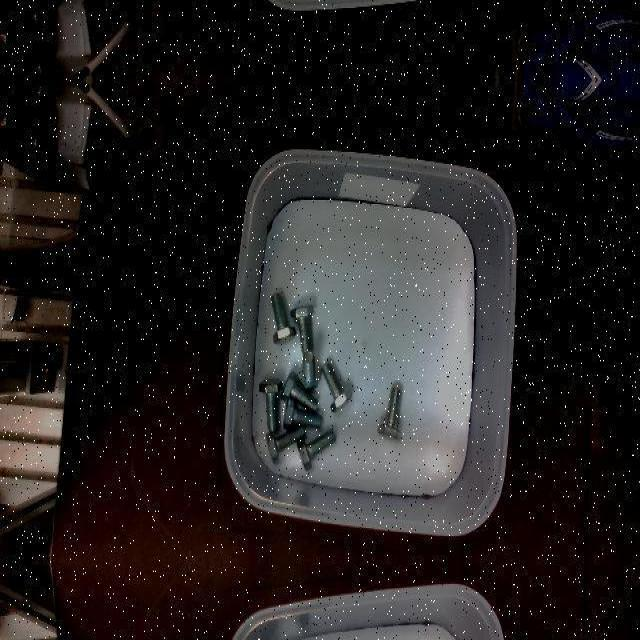screw: (297, 428, 336, 470), (280, 369, 318, 411), (322, 361, 353, 411), (266, 425, 305, 463), (270, 293, 296, 345), (377, 387, 402, 441), (283, 397, 322, 431), (259, 379, 282, 433), (289, 303, 313, 353), (298, 350, 321, 392)
